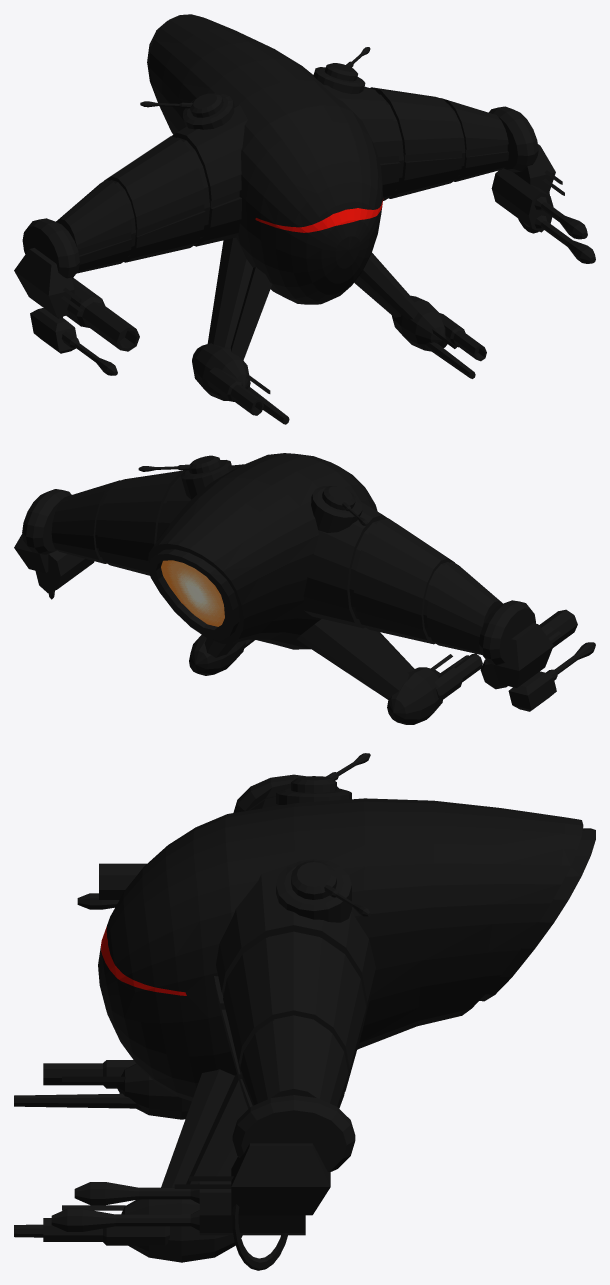
Rendered from Shadow_Droid.obj.
3 views of the same model, one above another, from view 1: azimuth 30°, elevation 25°; view 2: azimuth 150°, elevation 25°; view 3: azimuth 270°, elevation 25° (orthographic). The views are drawn at different scales.
Parts seen in each view (by area): view 1: Hull, eye; view 2: Hull, Engine; view 3: Hull, eye.
Part boxes in pixels (x1=…): Hull: x1=14, y1=14, x2=595, y2=424; eye: x1=255, y1=199, x2=383, y2=232; Hull: x1=14, y1=453, x2=595, y2=724; Engine: x1=161, y1=560, x2=224, y2=626; Hull: x1=14, y1=753, x2=595, y2=1270; eye: x1=101, y1=926, x2=186, y2=995.
Bounding box in the file's own units: 96.2 × 47.77 × 66.77.
